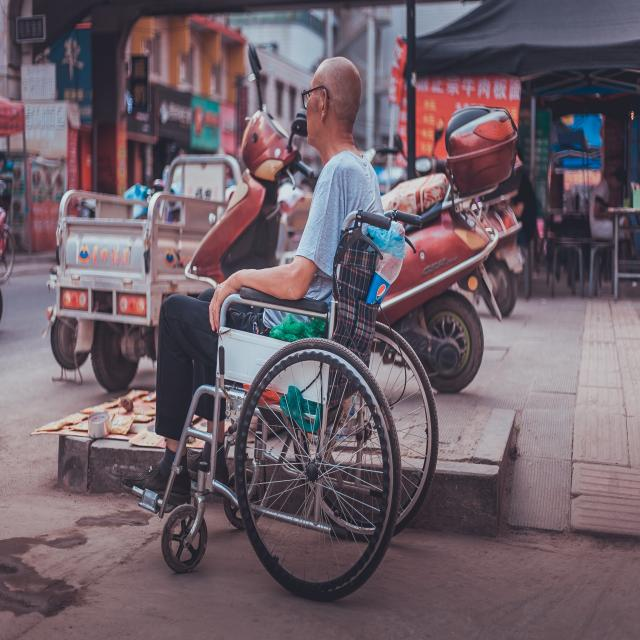wheelchairs: (140, 208, 438, 605)
